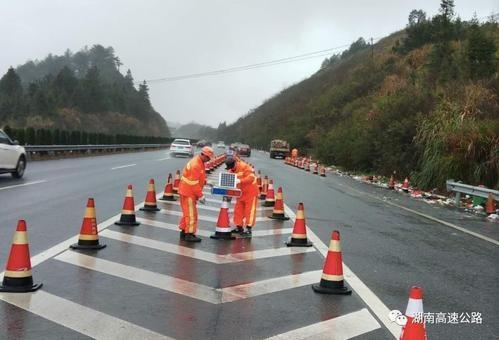cone_barrel: (313, 229, 349, 294), (395, 283, 430, 337), (72, 194, 101, 248), (286, 201, 309, 246), (210, 196, 232, 237), (116, 184, 137, 224), (140, 176, 158, 211), (269, 184, 286, 219), (161, 173, 173, 198), (171, 167, 179, 191), (265, 179, 273, 201), (400, 175, 408, 190), (386, 173, 394, 188), (311, 161, 318, 172)
